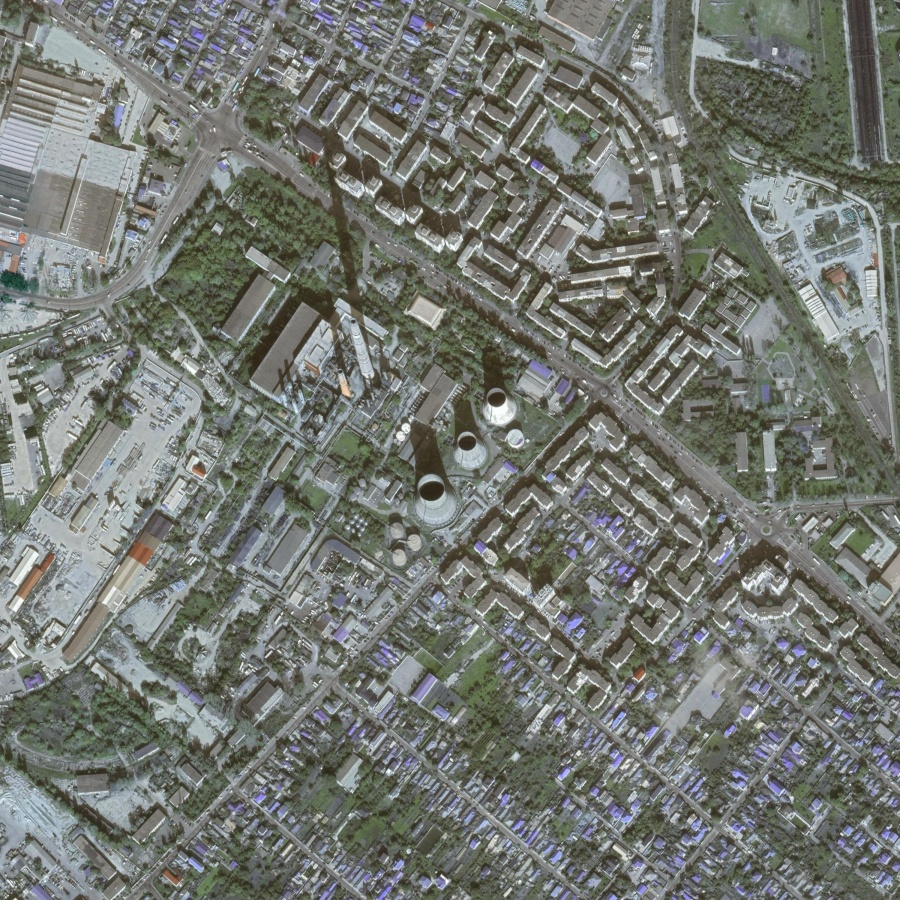PowerPlant: (257, 209, 543, 553)
